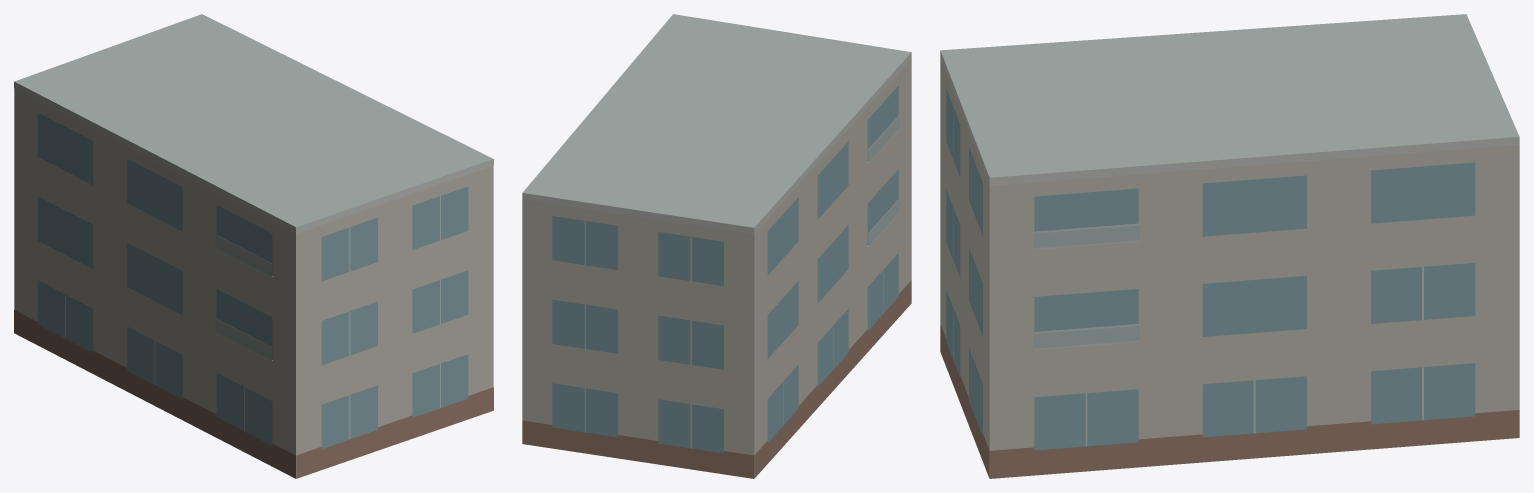
The model's file is survey-upis-32752971.glb.
The picture shows the model from 3 angles, left to right: view 1: azimuth 30°, elevation 25°; view 2: azimuth 150°, elevation 25°; view 3: azimuth 270°, elevation 25°; orthographic projection. The views are drawn at different scales.
Parts seen in each view (by area): view 1: survey-upis-32752971.tmp; view 2: survey-upis-32752971.tmp; view 3: survey-upis-32752971.tmp.
Part boxes in pixels (x1,y1,x2,y2): survey-upis-32752971.tmp: (14, 14, 493, 478); survey-upis-32752971.tmp: (522, 14, 911, 478); survey-upis-32752971.tmp: (940, 14, 1519, 478).
Size of the model in its own units: 10.68 by 9.15 by 15.96.
